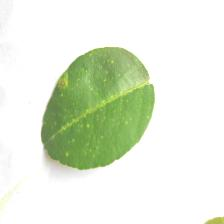greening: (52, 65, 144, 152)
